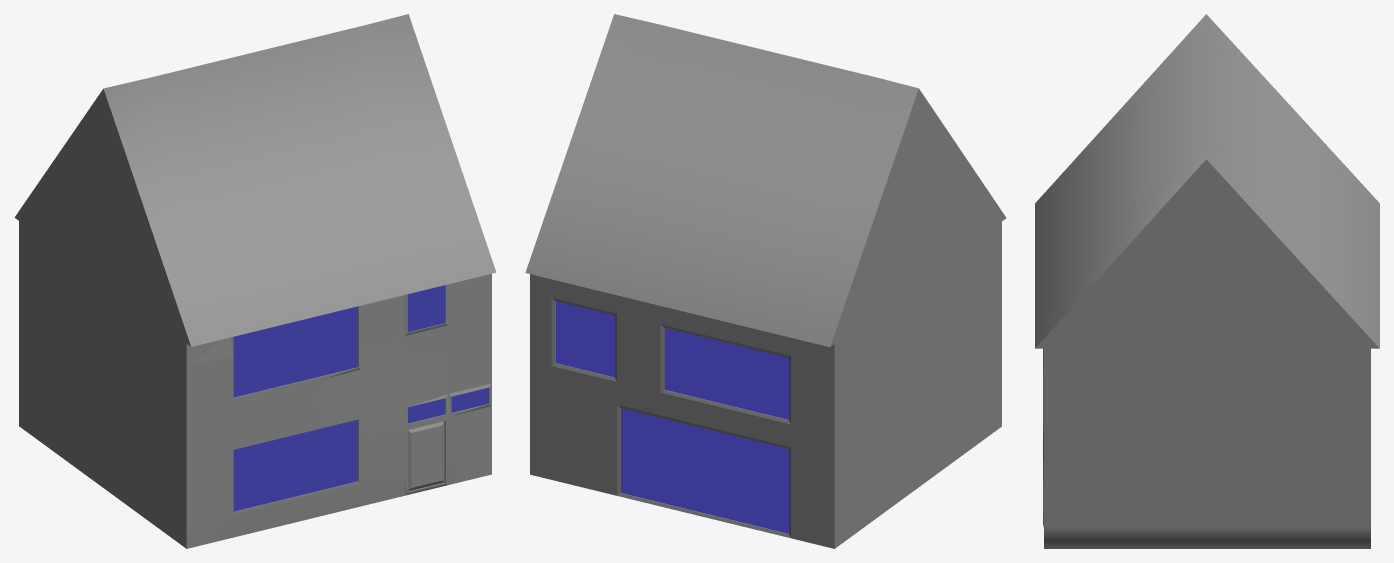
File: StreetHouse.FBX
3 renders of one model, left to right at view 1: azimuth 30°, elevation 25°; view 2: azimuth 150°, elevation 25°; view 3: azimuth 270°, elevation 25°, orthographic. The views are drawn at different scales.
Visible parts, largest first — view 1: Box001; view 2: Box001; view 3: Box001.
Boxes of the visible parts, x1,y1,x2,y2 form: Box001: [14, 14, 496, 548]; Box001: [525, 14, 1006, 548]; Box001: [1035, 14, 1379, 548].
Size of the model in its own units: 43.75 by 54.74 by 43.91.
